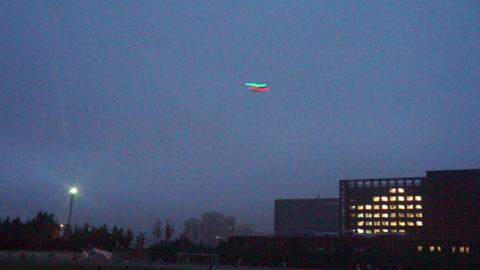UAV: (246, 84, 270, 92)
